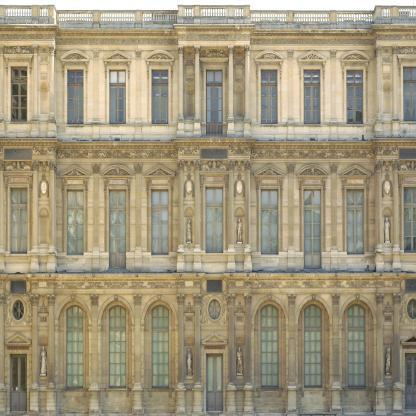Balcony: (0, 5, 416, 29)
Building Outline: (0, 5, 416, 416)
Cornice: (58, 163, 91, 197), (339, 163, 372, 197), (253, 163, 286, 197), (143, 163, 176, 197), (101, 163, 134, 197), (296, 163, 329, 197), (3, 160, 33, 194), (199, 160, 229, 194), (102, 49, 133, 80), (3, 46, 34, 77), (199, 48, 229, 79), (297, 49, 327, 80), (339, 50, 370, 80), (254, 50, 285, 80), (144, 50, 175, 80), (59, 50, 90, 80), (398, 160, 416, 193), (397, 46, 415, 76), (201, 332, 228, 346), (4, 332, 31, 346), (400, 331, 416, 345)
Deco: (234, 161, 245, 197), (38, 161, 49, 197), (382, 161, 392, 197), (184, 161, 194, 197), (38, 294, 49, 323), (234, 52, 244, 82), (40, 47, 49, 79), (40, 346, 48, 380), (382, 49, 391, 79), (185, 52, 194, 82), (186, 347, 194, 380), (236, 347, 244, 380), (385, 347, 393, 379), (383, 302, 394, 323), (234, 302, 245, 323), (184, 302, 194, 323), (236, 218, 243, 244), (187, 219, 192, 244)
Door: (9, 354, 27, 412), (206, 354, 223, 413), (405, 353, 416, 412)
Facade: (0, 4, 416, 415)
Floor: (0, 151, 416, 273)
Floor Slab: (0, 273, 416, 287), (0, 138, 416, 151)
Ground Floor: (0, 287, 416, 415)
Molding: (0, 24, 416, 50), (0, 138, 416, 164), (0, 274, 416, 294)
Pillar: (391, 294, 403, 416), (242, 294, 254, 416), (286, 294, 298, 416), (330, 294, 342, 416), (175, 294, 187, 416), (88, 294, 100, 416), (45, 294, 57, 416), (226, 294, 237, 416), (192, 294, 203, 416), (375, 294, 386, 416), (132, 294, 143, 416), (29, 294, 40, 416), (374, 159, 384, 273), (91, 163, 101, 273), (286, 163, 296, 273), (329, 163, 339, 273), (133, 163, 143, 273), (176, 159, 185, 273), (193, 159, 202, 273), (243, 159, 252, 273), (227, 159, 236, 273), (392, 159, 401, 273), (47, 159, 56, 273), (31, 159, 40, 273), (390, 45, 399, 137), (227, 45, 236, 137), (193, 45, 202, 137), (176, 45, 185, 137), (47, 46, 56, 138), (31, 46, 40, 138), (243, 45, 252, 137), (374, 45, 383, 137), (329, 50, 338, 141), (134, 50, 143, 141), (286, 50, 295, 141), (0, 293, 6, 416), (92, 50, 100, 141), (0, 159, 5, 273), (0, 45, 5, 138)
Top Floor: (0, 29, 416, 138)
Window: (57, 300, 90, 416), (254, 300, 287, 416), (100, 300, 133, 416), (342, 300, 374, 416), (298, 300, 330, 416), (144, 300, 176, 416), (348, 304, 366, 388), (108, 305, 126, 389), (151, 305, 169, 389), (261, 304, 279, 388), (304, 304, 322, 388), (66, 305, 83, 389), (109, 189, 126, 269), (304, 189, 321, 268), (10, 188, 28, 254), (66, 189, 84, 255), (151, 189, 168, 255), (206, 187, 223, 253), (261, 189, 278, 255), (347, 189, 364, 255), (206, 69, 223, 134), (151, 69, 169, 124), (10, 66, 27, 121), (67, 69, 84, 124), (304, 69, 321, 124), (347, 69, 364, 124), (109, 69, 126, 124), (261, 69, 277, 124), (403, 186, 416, 252), (403, 66, 416, 121), (407, 298, 416, 319)
